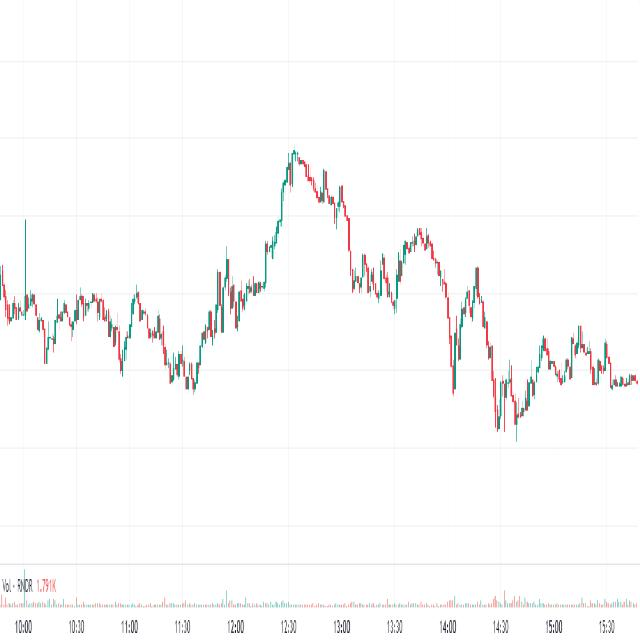Rounding-Top: (393, 212, 455, 298)
